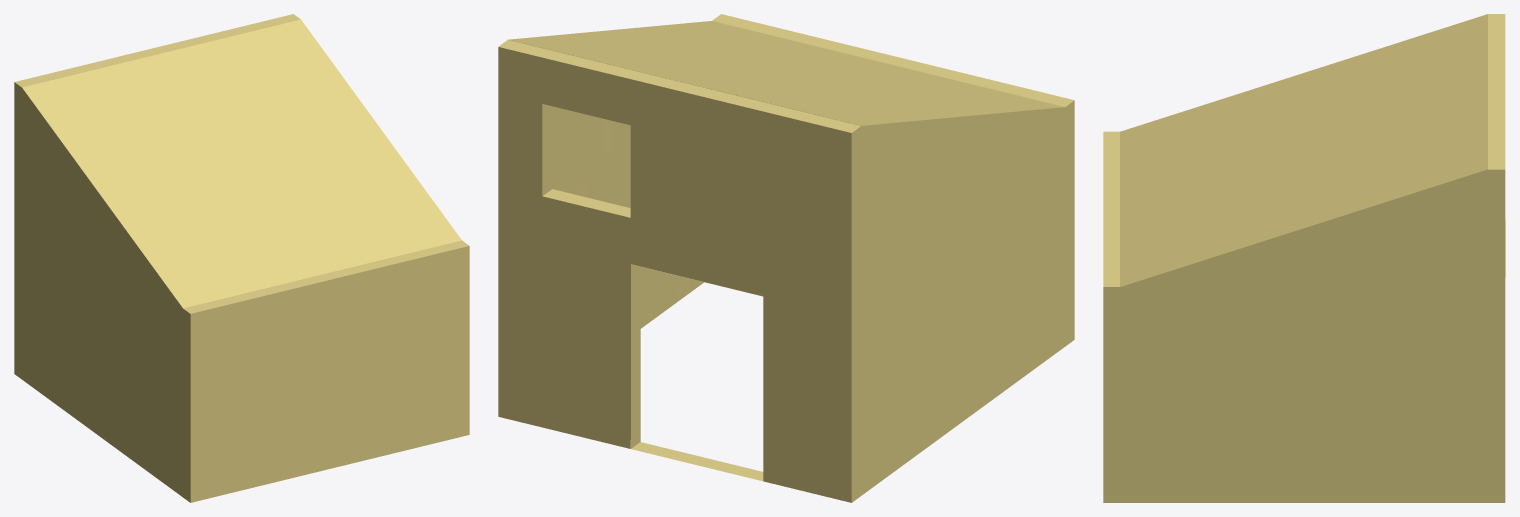
File: house one windows.fbx
3 views of the same model, side by side, from view 1: azimuth 30°, elevation 25°; view 2: azimuth 150°, elevation 25°; view 3: azimuth 270°, elevation 25° (orthographic). The views are drawn at different scales.
Parts seen in each view (by area): view 1: Plane.001; view 2: Plane.001; view 3: Plane.001.
Part boxes in pixels (<box>): Plane.001: <box>14,14,469,502</box>; Plane.001: <box>498,14,1074,502</box>; Plane.001: <box>1103,14,1505,502</box>.
Bounding box in the file's own units: 870 × 870 × 952.
